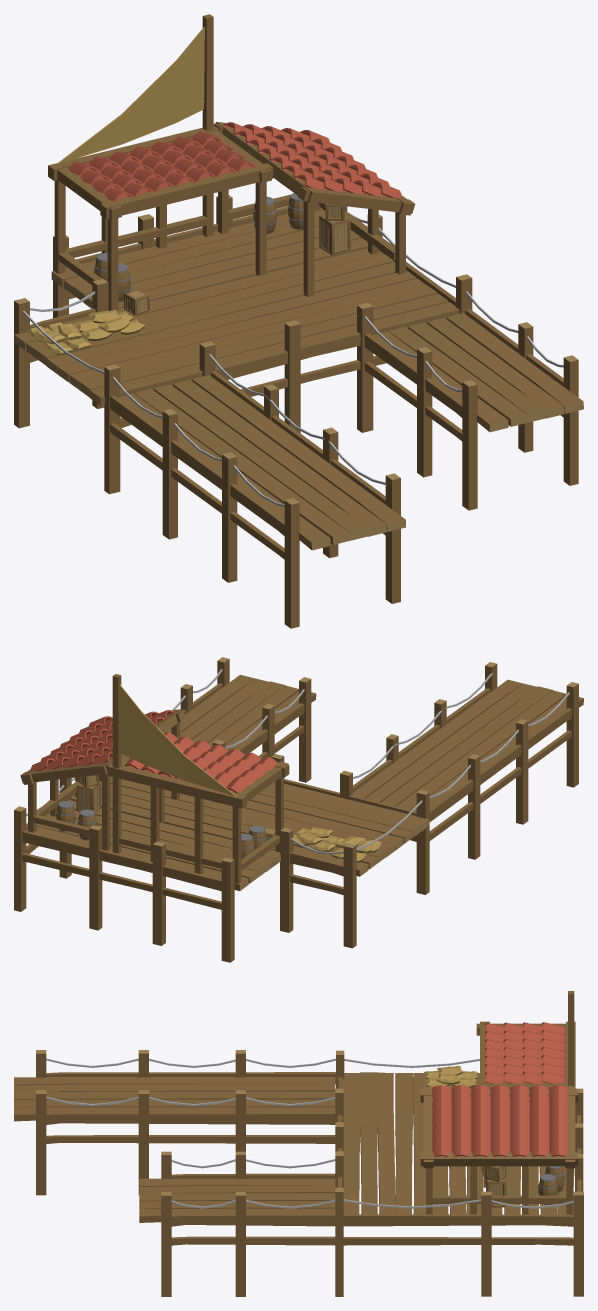
The model's file is Port-4sE6lmhGPF.glb.
3 views of the same model, one above another, from view 1: azimuth 30°, elevation 25°; view 2: azimuth 150°, elevation 25°; view 3: azimuth 270°, elevation 25° (orthographic). The views are drawn at different scales.
Visible parts, largest first — view 1: Port-4sE6lmhGPF; view 2: Port-4sE6lmhGPF; view 3: Port-4sE6lmhGPF.
Part boxes in pixels (x1,y1,x2,y2): Port-4sE6lmhGPF: [14, 14, 583, 628]; Port-4sE6lmhGPF: [14, 657, 583, 962]; Port-4sE6lmhGPF: [14, 991, 583, 1296].
Bounding box in the file's own units: 1.75 × 1.43 × 2.88.
